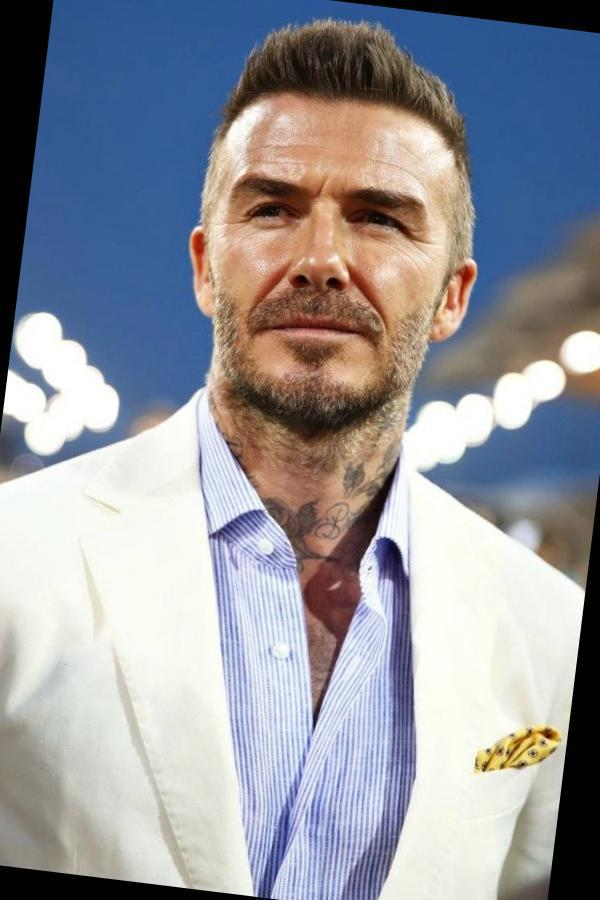Sober: (223, 104, 435, 406)
